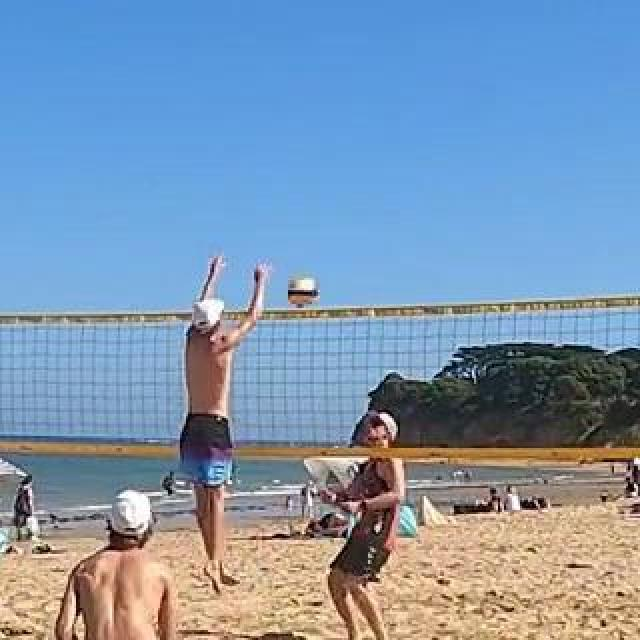volleyball: (287, 276, 317, 308)
